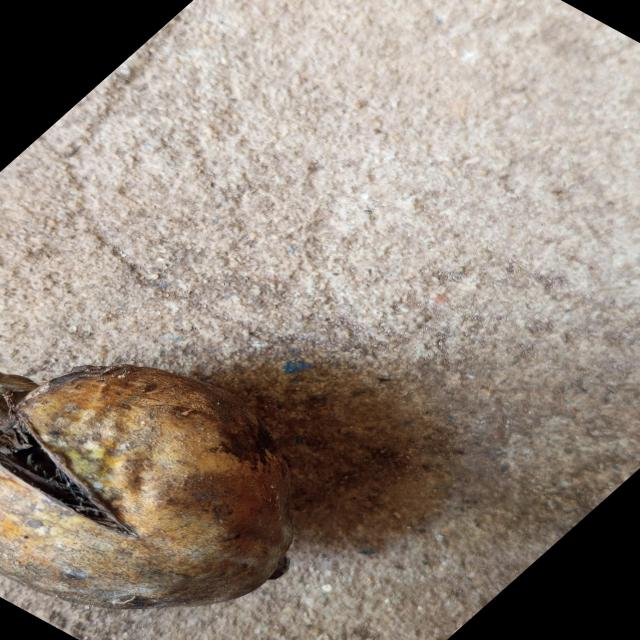damaged: (0, 365, 292, 609)
